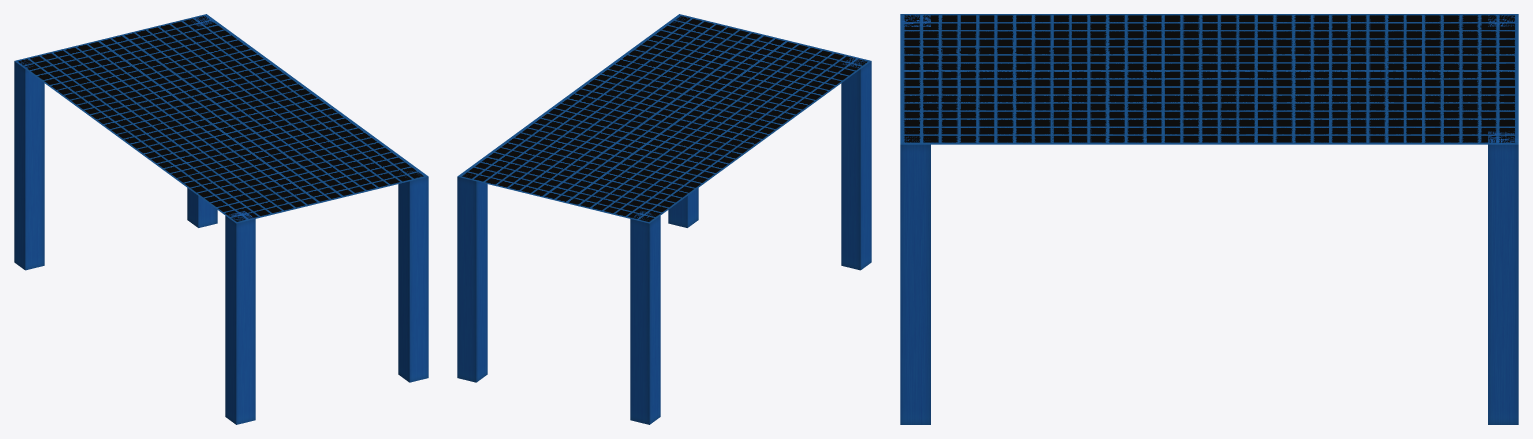
The model's file is testbedBlueTable.dae.
3 views of the same model, side by side, from view 1: azimuth 30°, elevation 25°; view 2: azimuth 150°, elevation 25°; view 3: azimuth 270°, elevation 25° (orthographic). The views are drawn at different scales.
Visible parts, largest first — view 1: Object002, Object001, Object003; view 2: Object002, Object001, Object003; view 3: Object002, Object003, Object001.
Part boxes in pixels (x1,y1,x2,y2): Object002: (15,14,427,223); Object001: (14,14,428,424); Object003: (20,15,420,222); Object002: (457,14,871,223); Object001: (457,14,871,424); Object003: (458,17,869,222); Object002: (900,14,1518,144); Object003: (900,14,1518,144); Object001: (900,14,1518,424).
Size of the model in its own units: 1 by 2 by 1.
Materials: 2 (2 with a texture image).
